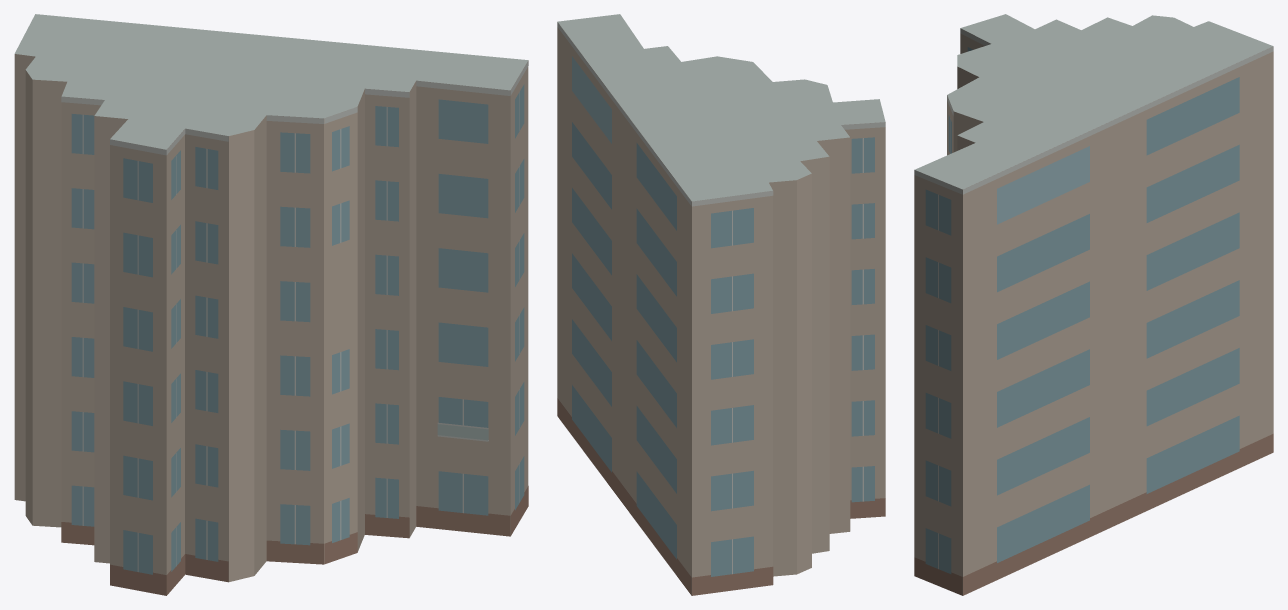
Rendered from survey-upis-32642056.glb.
The picture shows the model from 3 angles, left to right: view 1: azimuth 30°, elevation 25°; view 2: azimuth 150°, elevation 25°; view 3: azimuth 270°, elevation 25°; orthographic projection. The views are drawn at different scales.
Parts seen in each view (by area): view 1: survey-upis-32642056.tmp; view 2: survey-upis-32642056.tmp; view 3: survey-upis-32642056.tmp.
Part boxes in pixels (x1,y1,x2,y2): survey-upis-32642056.tmp: (14,14,528,595); survey-upis-32642056.tmp: (557,14,885,595); survey-upis-32642056.tmp: (914,14,1273,595).
Bounding box in the file's own units: 17.71 × 19.1 × 15.3.
